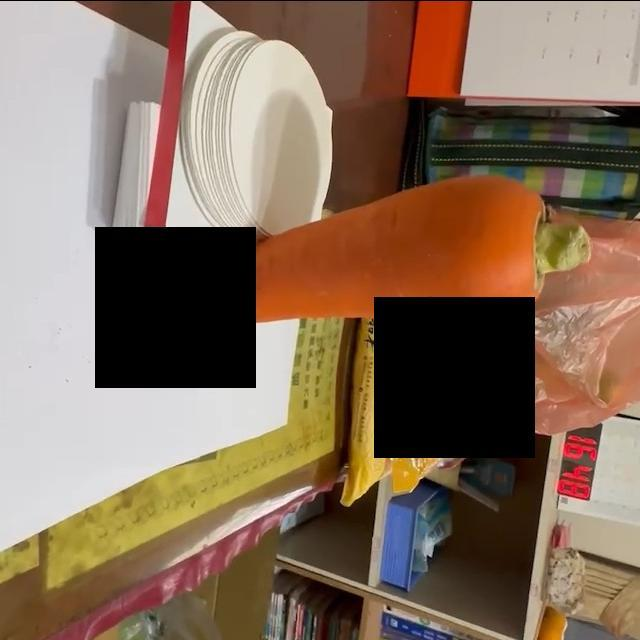carrot: (158, 178, 595, 330)
